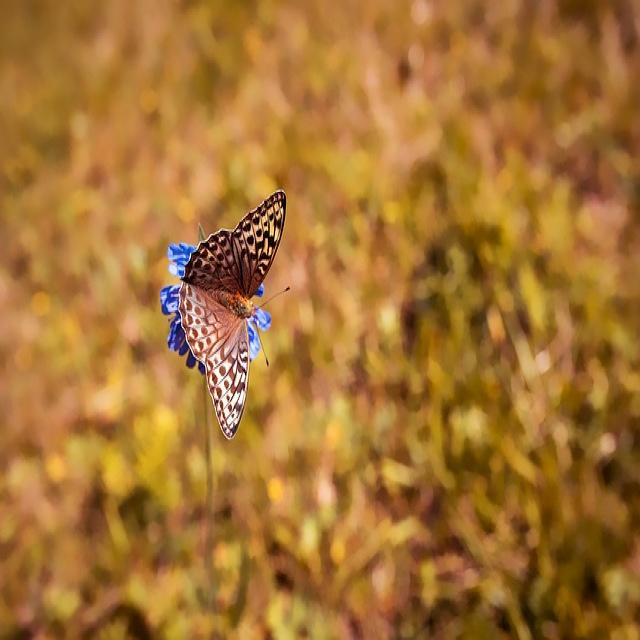butterfly: (169, 191, 286, 438)
